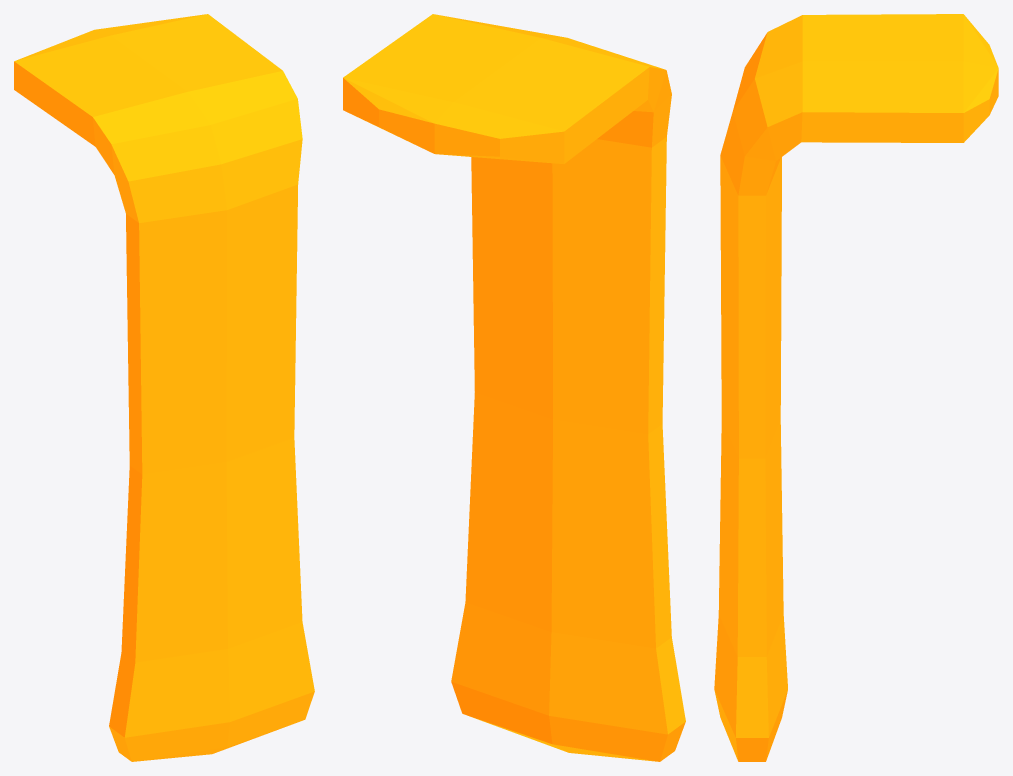
File: pit_lava_flow.gltf
3 views of the same model, side by side, from view 1: azimuth 30°, elevation 25°; view 2: azimuth 150°, elevation 25°; view 3: azimuth 270°, elevation 25° (orthographic). The views are drawn at different scales.
Parts seen in each view (by area): view 1: pit_lava_flow; view 2: pit_lava_flow; view 3: pit_lava_flow.
Part boxes in pixels (<box>): pit_lava_flow: <box>14,14,314,761</box>; pit_lava_flow: <box>343,14,685,761</box>; pit_lava_flow: <box>714,14,998,761</box>.
Size of the model in its own units: 1.7 by 5.41 by 2.06.
Materials: 1 (1 with a texture image).
